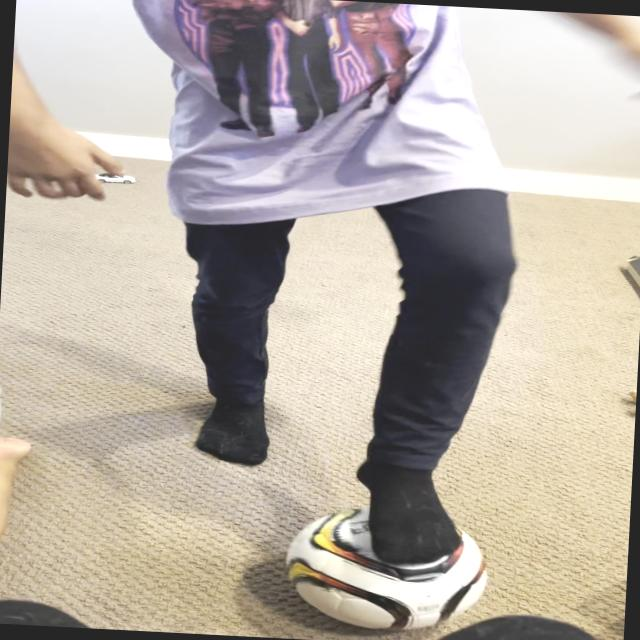Soccer Ball: (283, 506, 492, 635)
